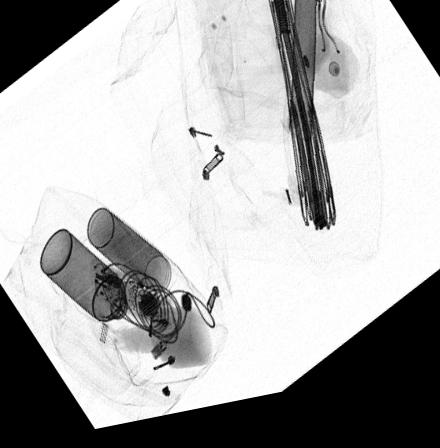Sprayer: (40, 233, 144, 342), (283, 0, 318, 159)
